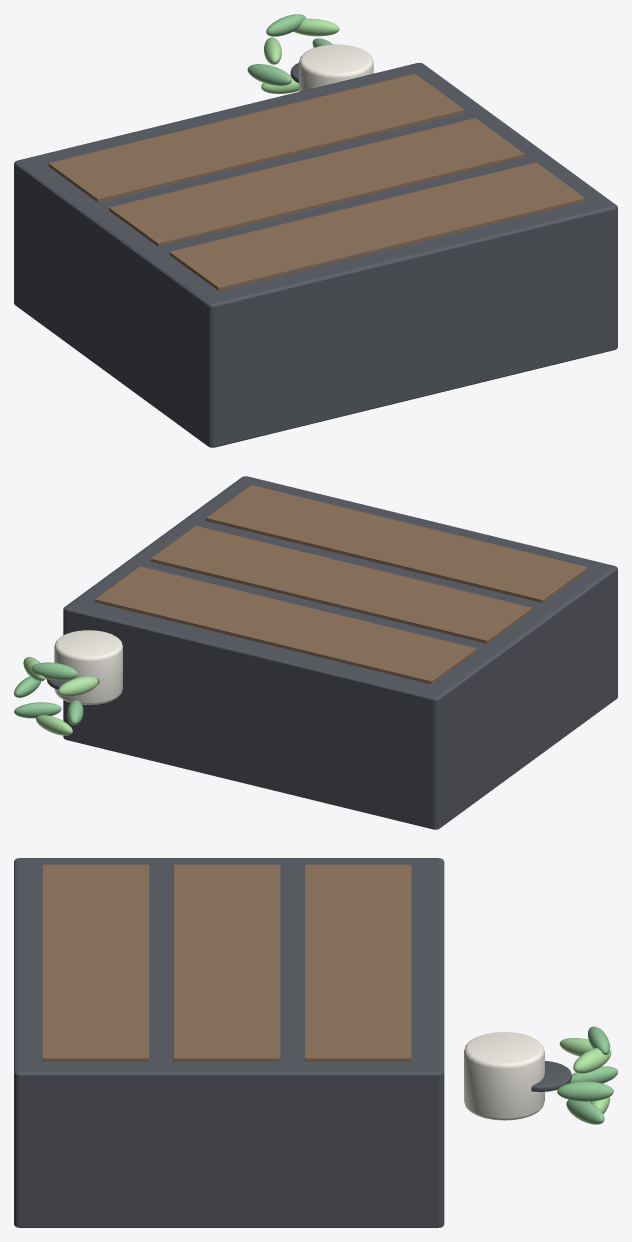
File: storage_cabinet.glb
3 views of the same model, one above another, from view 1: azimuth 30°, elevation 25°; view 2: azimuth 150°, elevation 25°; view 3: azimuth 270°, elevation 25° (orthographic). The views are drawn at different scales.
Parts seen in each view (by area): view 1: body, drawer_2, drawer_1, drawer_0, pot, leaf_4, leaf_1, leaf_2; view 2: body, drawer_2, drawer_1, drawer_0, pot, leaf_2, leaf_6, leaf_3, leaf_5; view 3: body, drawer_0, drawer_1, drawer_2, pot, leaf_0, soil, leaf_6, leaf_1, leaf_4.
Part boxes in pixels (x1,y1,x2,y2): body: (14,63,617,447); drawer_2: (48,74,463,202); drawer_1: (109,118,524,246); drawer_0: (169,162,584,290); pot: (299,44,373,91); leaf_4: (247,64,291,85); leaf_1: (293,18,339,36); leaf_2: (266,14,306,36); body: (63,476,617,829); drawer_2: (95,566,476,684); drawer_1: (150,525,532,643); drawer_0: (206,485,587,602); pot: (54,630,122,704); leaf_2: (31,662,77,680); leaf_6: (14,702,61,718); leaf_3: (58,676,98,696); leaf_5: (36,715,72,735); body: (14,858,444,1227); drawer_0: (42,864,149,1061); drawer_1: (173,864,280,1061); drawer_2: (305,864,411,1061); pot: (464,1032,544,1120); leaf_0: (557,1081,613,1101); soil: (531,1061,571,1091); leaf_6: (566,1100,604,1124); leaf_1: (573,1048,611,1073); leaf_4: (569,1066,617,1083).
Bounding box in the file's own units: 1.25 × 0.4397 × 1.47.
